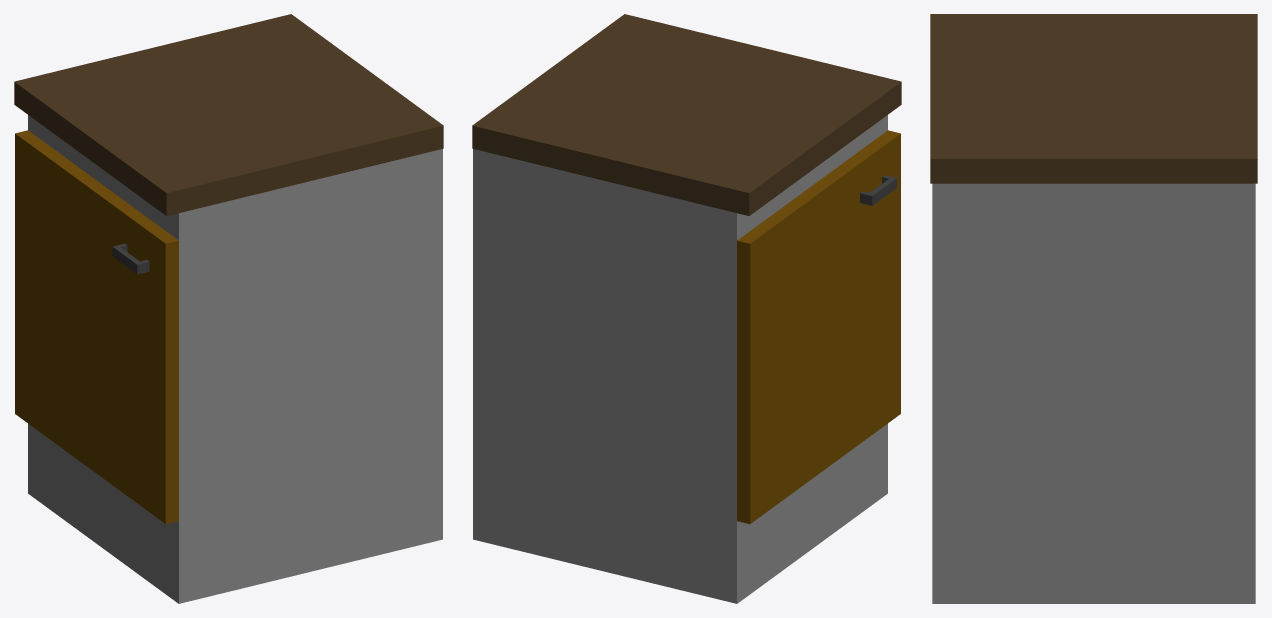
Rendered from KitchenCounterLeft.fbx.
The picture shows the model from 3 angles, left to right: view 1: azimuth 30°, elevation 25°; view 2: azimuth 150°, elevation 25°; view 3: azimuth 270°, elevation 25°; orthographic projection. The views are drawn at different scales.
Parts seen in each view (by area): view 1: pCube1, pCube3; view 2: pCube1, pCube3; view 3: pCube1.
Boxes of the visible parts, x1,y1,x2,y2 form: pCube1: (14, 14, 443, 603); pCube3: (112, 243, 149, 274); pCube1: (472, 14, 901, 603); pCube3: (860, 175, 896, 205); pCube1: (930, 14, 1257, 603).
Bounding box in the file's own units: 1.1 × 1.5 × 1.
